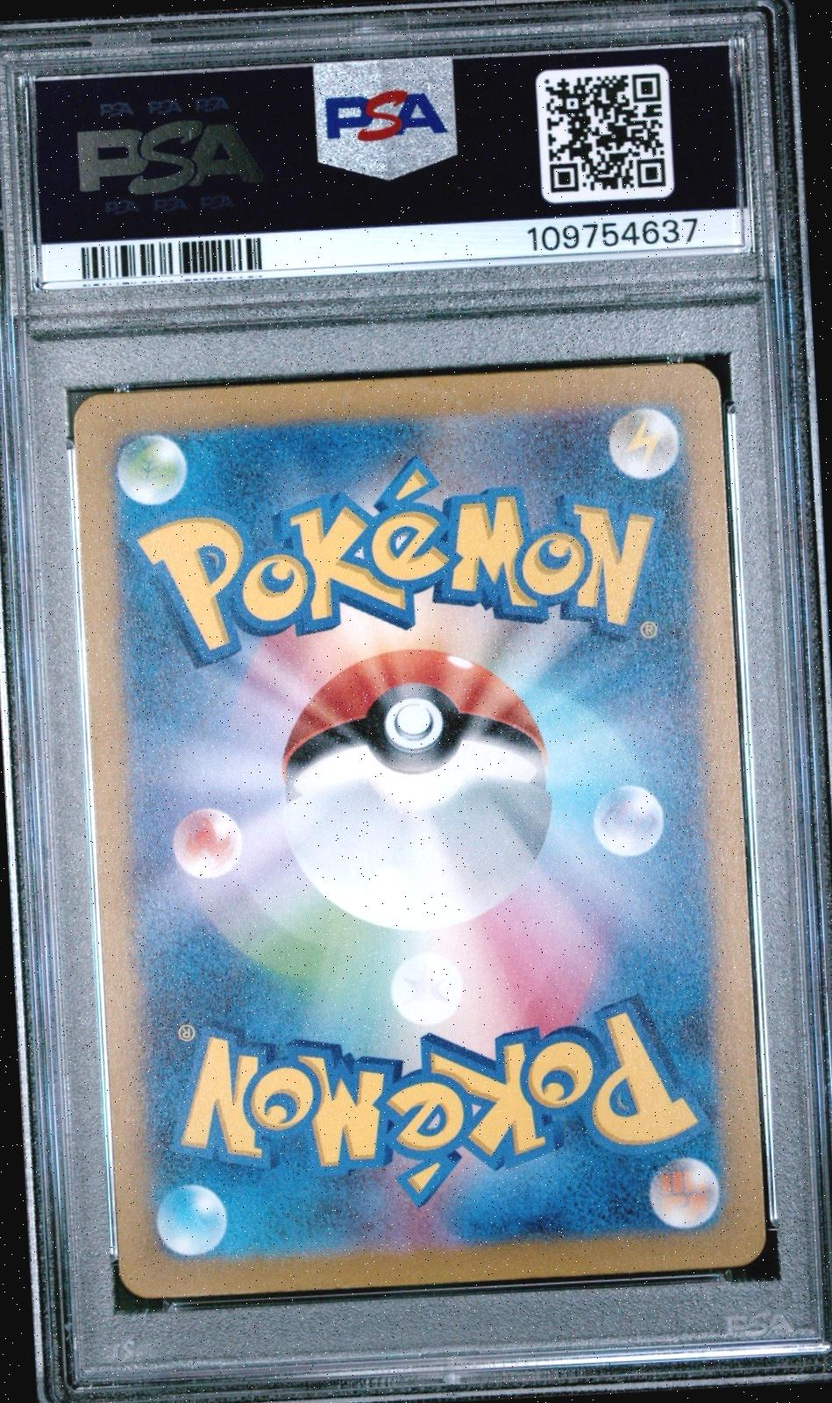card-2UtV: (72, 361, 767, 1300)
